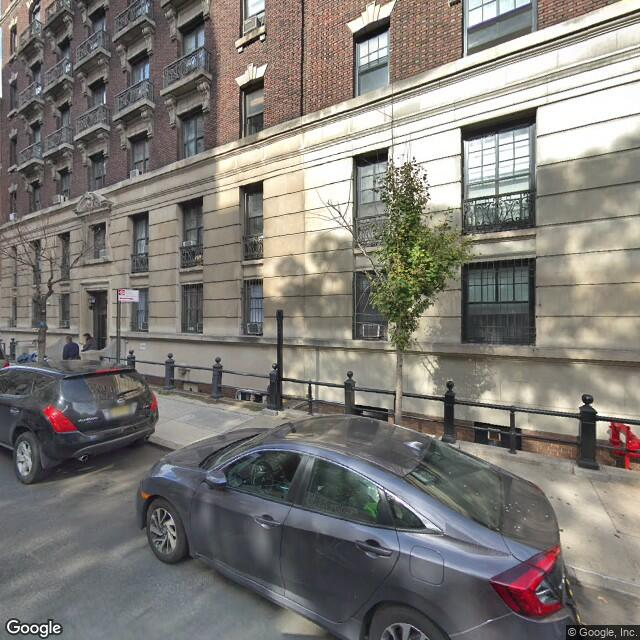window: (461, 120, 533, 231), (462, 261, 534, 344), (352, 150, 389, 245), (354, 26, 389, 94), (354, 271, 388, 340), (239, 183, 265, 261), (178, 17, 206, 81), (178, 198, 203, 269), (241, 278, 264, 337), (129, 212, 150, 273), (179, 111, 205, 158), (240, 82, 263, 135), (126, 57, 148, 109), (181, 284, 203, 333), (88, 82, 106, 130), (128, 133, 147, 178), (86, 8, 104, 53), (54, 39, 70, 82), (88, 154, 105, 193), (53, 107, 69, 147), (26, 125, 41, 161), (28, 64, 42, 100), (28, 6, 42, 37), (56, 167, 68, 201), (29, 180, 39, 212)
